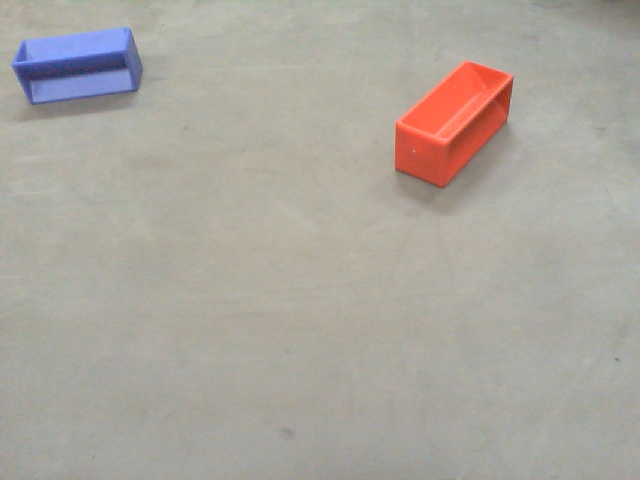BlueSample: (12, 24, 146, 107)
RedSample: (384, 57, 521, 188)
